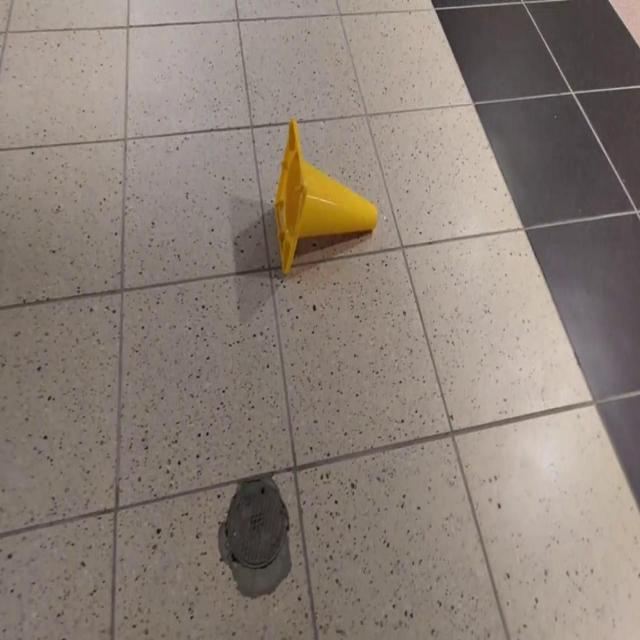frc_cone: (274, 119, 378, 277)
